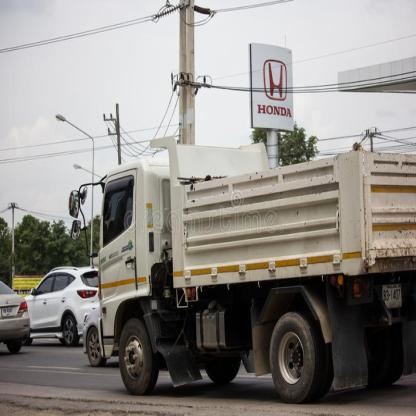dump_truck: (77, 129, 416, 405)
